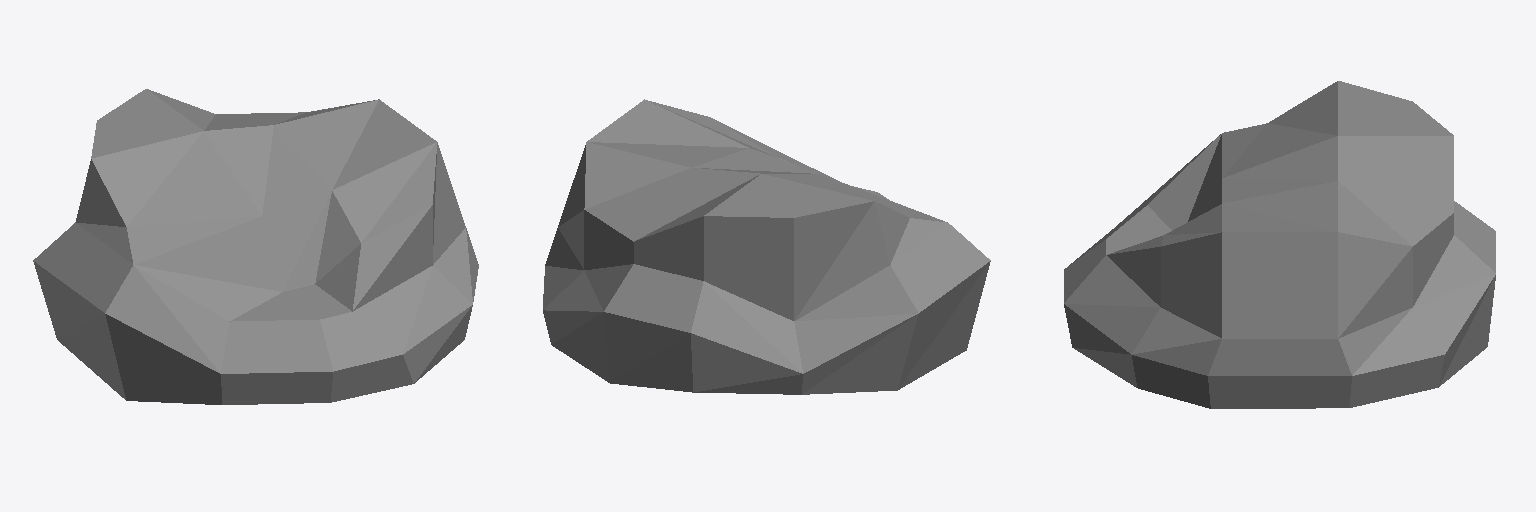
File: stone_middle_02.obj
3 views of the same model, side by side, from view 1: azimuth 30°, elevation 25°; view 2: azimuth 150°, elevation 25°; view 3: azimuth 270°, elevation 25° (orthographic).
Bounding box in the file's own units: 1.42 × 0.7958 × 1.43.